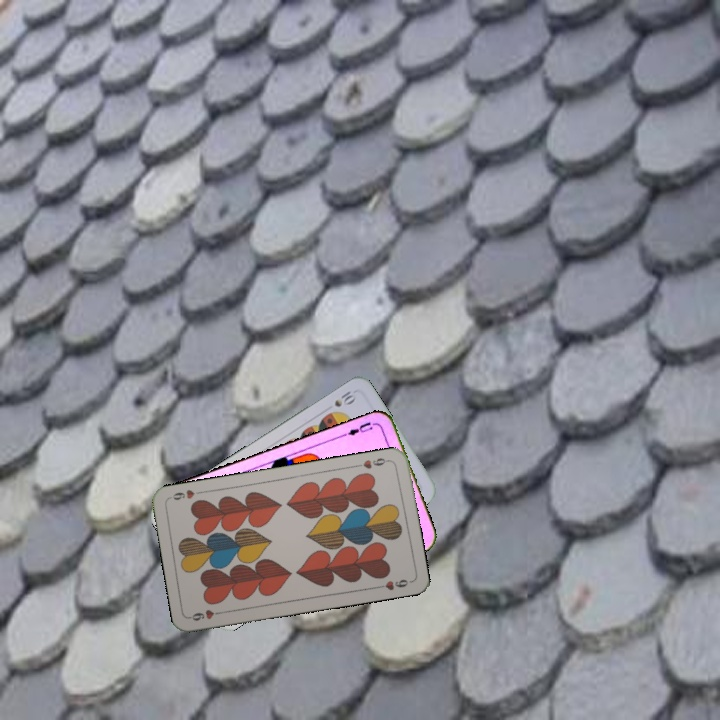EU: (340, 418, 379, 439)
H9: (186, 605, 227, 623), (352, 454, 393, 471)
S10: (330, 385, 357, 410)
